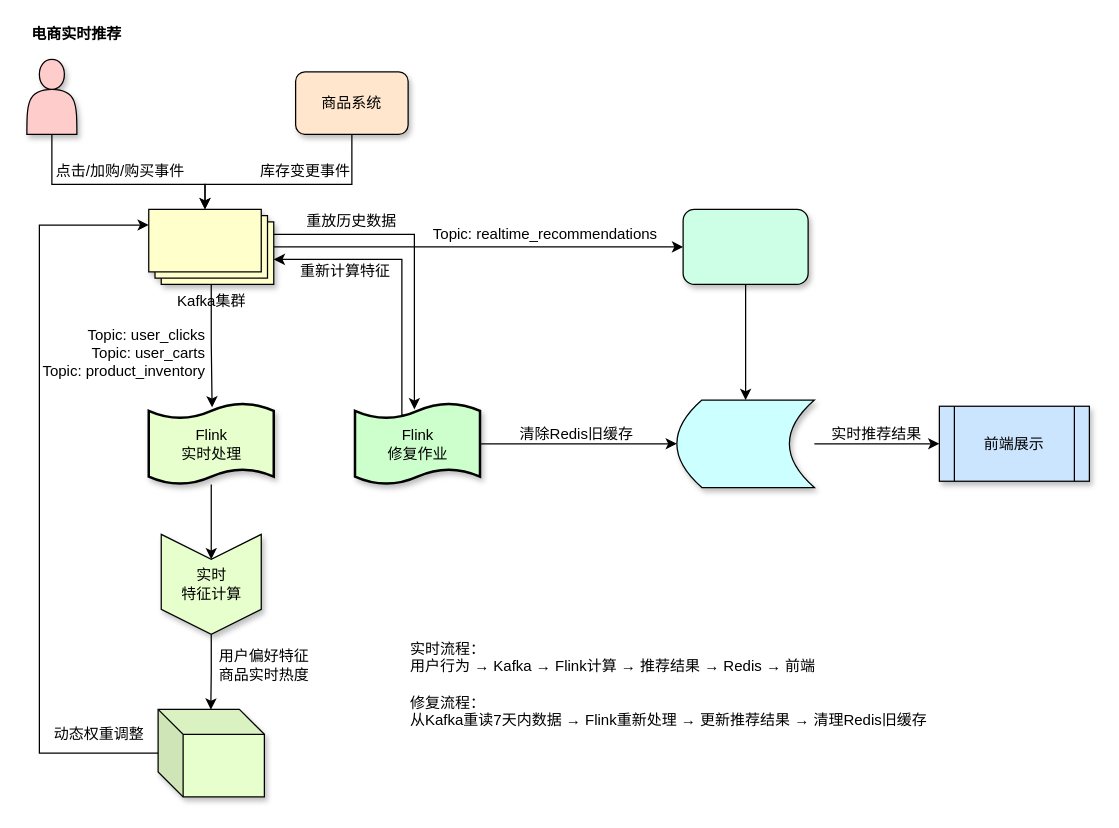
This 1119x828 diagram has some shape labels left out. The shapes that lost their labels are listed below. From the top down, each one's centre as x and y in pixels, then its label:
At point (746, 248): "推荐API服务".
At point (746, 445): "Redis缓存".
At point (212, 754): "在线 模型更新".
